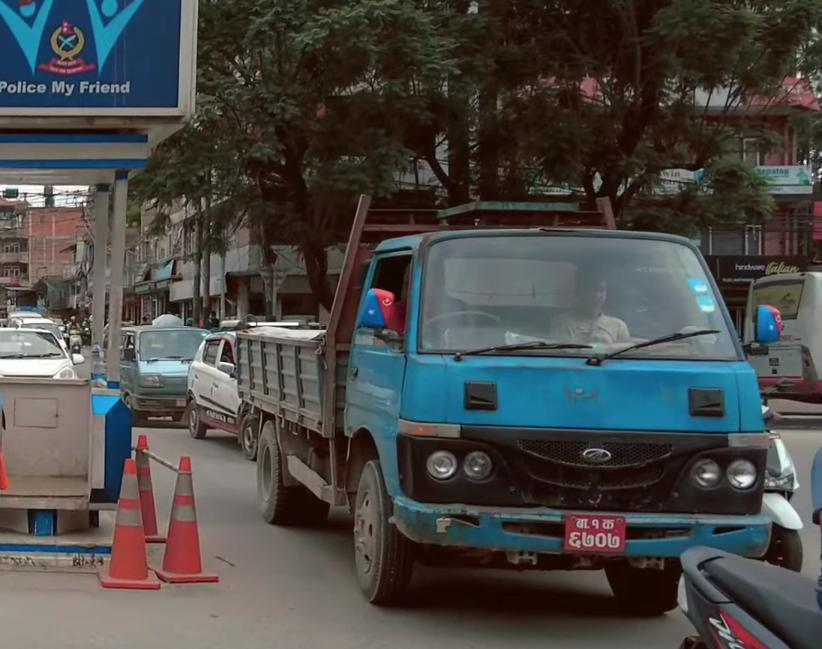car: (0, 322, 84, 394)
mini_truck: (213, 180, 788, 618)
taxi: (183, 323, 251, 446)
van: (100, 307, 200, 414)
